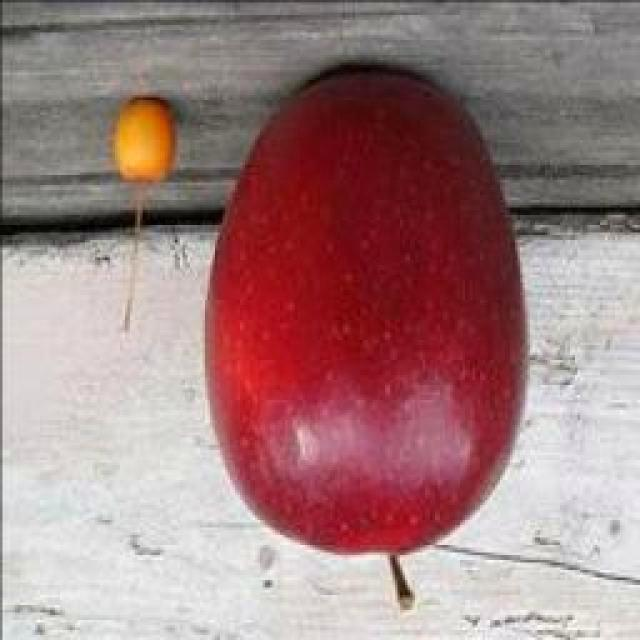Apple: (209, 65, 526, 609), (114, 96, 176, 224)
